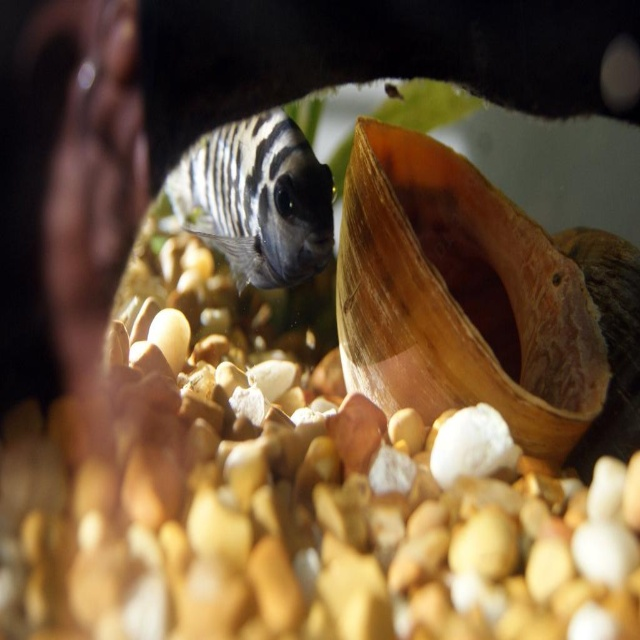Fish: (118, 101, 344, 355)
